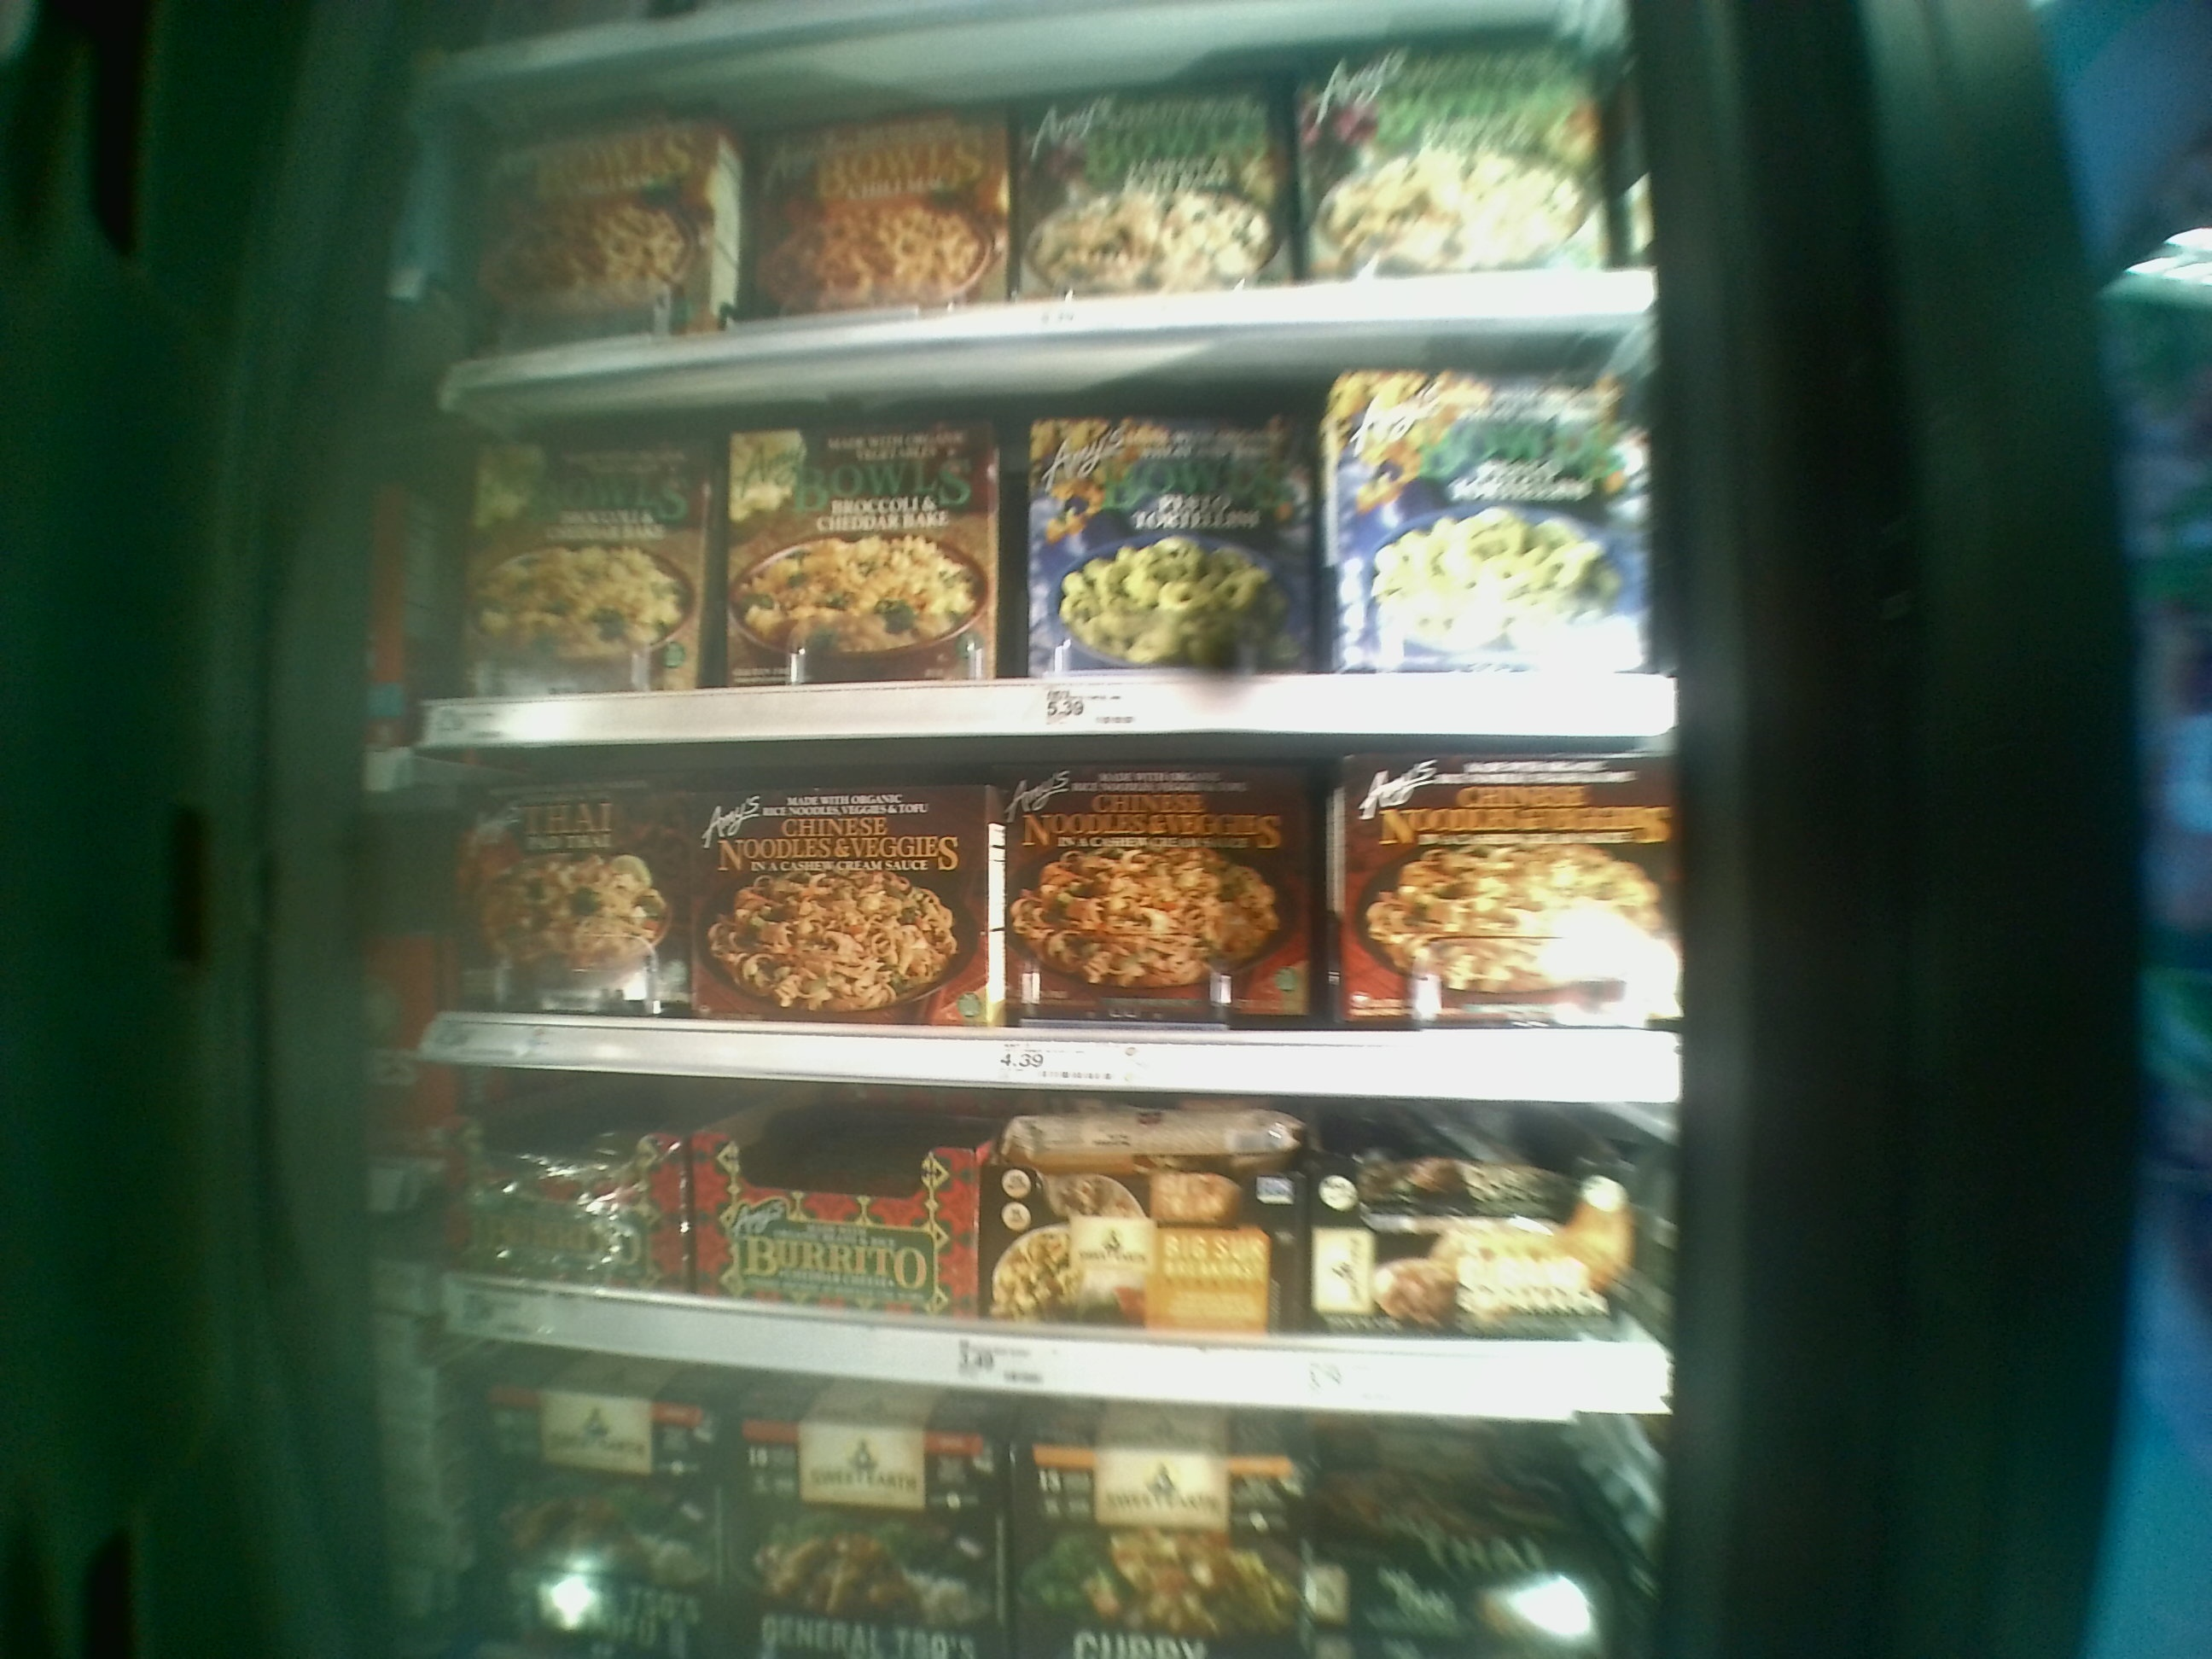frozen-food-shelf: (401, 744, 1686, 1105), (409, 38, 1646, 403), (401, 401, 1681, 742), (394, 1103, 1695, 1429)
